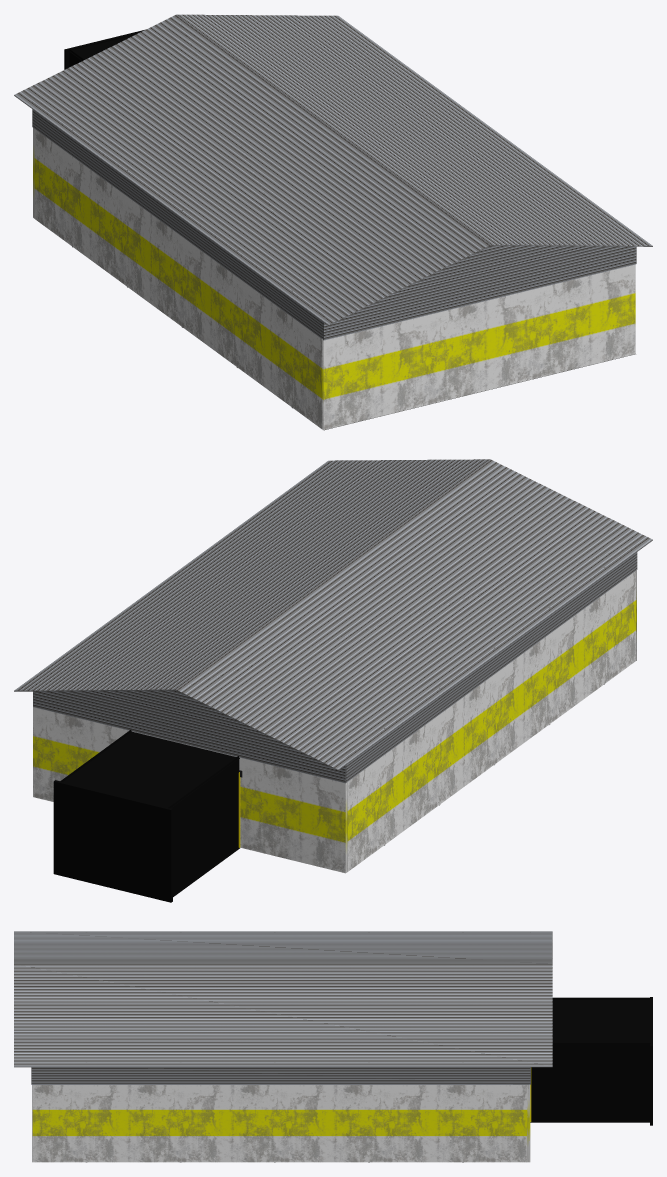
File: empilhadeira hugo.fbx
3 views of the same model, one above another, from view 1: azimuth 30°, elevation 25°; view 2: azimuth 150°, elevation 25°; view 3: azimuth 270°, elevation 25° (orthographic). The views are drawn at different scales.
Parts seen in each view (by area): view 1: Teto, Teto.001, Parede.002, Parede.003, Teto.005, Teto.003; view 2: Teto, Teto.001, Parede.003, Parede, Cubo.009, Teto.004, Cubo.006, Cubo.007, Teto.003; view 3: Teto.001, Parede.001, Teto, Cubo.008, Teto.002, Cubo.006, Teto.003, Cubo.009.
Boxes of the visible parts, left/top/right/bottom form: Teto: left=14, top=14, right=491, bottom=325; Teto.001: left=176, top=14, right=652, bottom=246; Parede.002: left=322, top=264, right=635, bottom=429; Parede.003: left=34, top=129, right=323, bottom=430; Teto.005: left=323, top=245, right=636, bottom=340; Teto.003: left=32, top=101, right=323, bottom=339; Teto: left=176, top=459, right=652, bottom=770; Teto.001: left=14, top=459, right=490, bottom=691; Parede.003: left=347, top=571, right=635, bottom=871; Parede: left=33, top=707, right=347, bottom=873; Cubo.009: left=53, top=780, right=172, bottom=902; Teto.004: left=33, top=690, right=345, bottom=783; Cubo.006: left=63, top=731, right=239, bottom=808; Cubo.007: left=168, top=756, right=239, bottom=896; Teto.003: left=346, top=544, right=637, bottom=782; Teto.001: left=14, top=964, right=552, bottom=1067; Parede.001: left=32, top=1085, right=526, bottom=1162; Teto: left=14, top=931, right=552, bottom=964; Cubo.008: left=530, top=1042, right=650, bottom=1122; Teto.002: left=31, top=1067, right=530, bottom=1084; Cubo.006: left=552, top=999, right=649, bottom=1045; Teto.003: left=32, top=932, right=529, bottom=932; Cubo.009: left=650, top=997, right=652, bottom=1125.
Bounding box in the file's own units: 3113 × 1443 × 6199.
